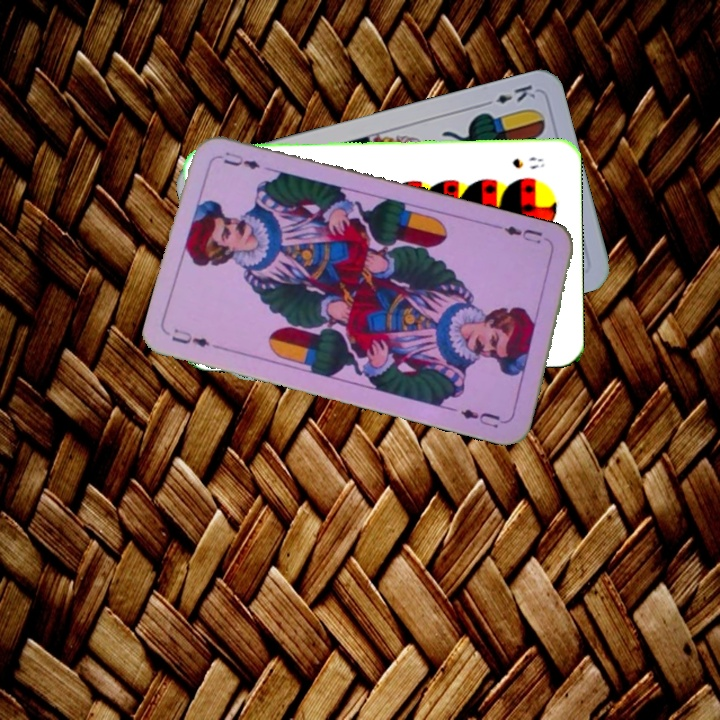EK: (479, 80, 538, 109)
EU: (495, 221, 553, 247), (168, 324, 212, 350)
S8: (509, 153, 547, 172)
